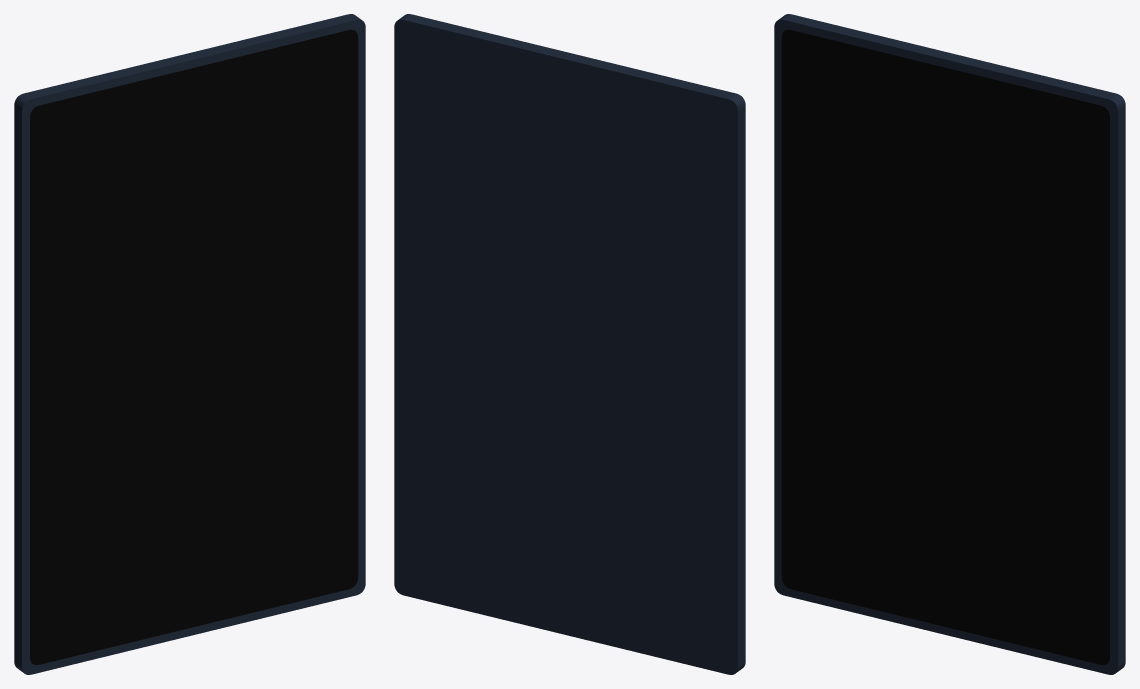
File: samsung-galaxy-tab-s7.glb
3 views of the same model, side by side, from view 1: azimuth 30°, elevation 25°; view 2: azimuth 150°, elevation 25°; view 3: azimuth 330°, elevation 25° (orthographic).
Parts seen in each view (by area): view 1: Screen, Body; view 2: Body; view 3: Screen, Body.
Part boxes in pixels (x1,y1,x2,y2): Screen: (30,29,358,664); Body: (14,14,365,674); Body: (394,14,745,674); Screen: (781,29,1109,664); Body: (774,14,1125,674).
Size of the model in its own units: 0.1333 by 0.2133 by 0.00535.
